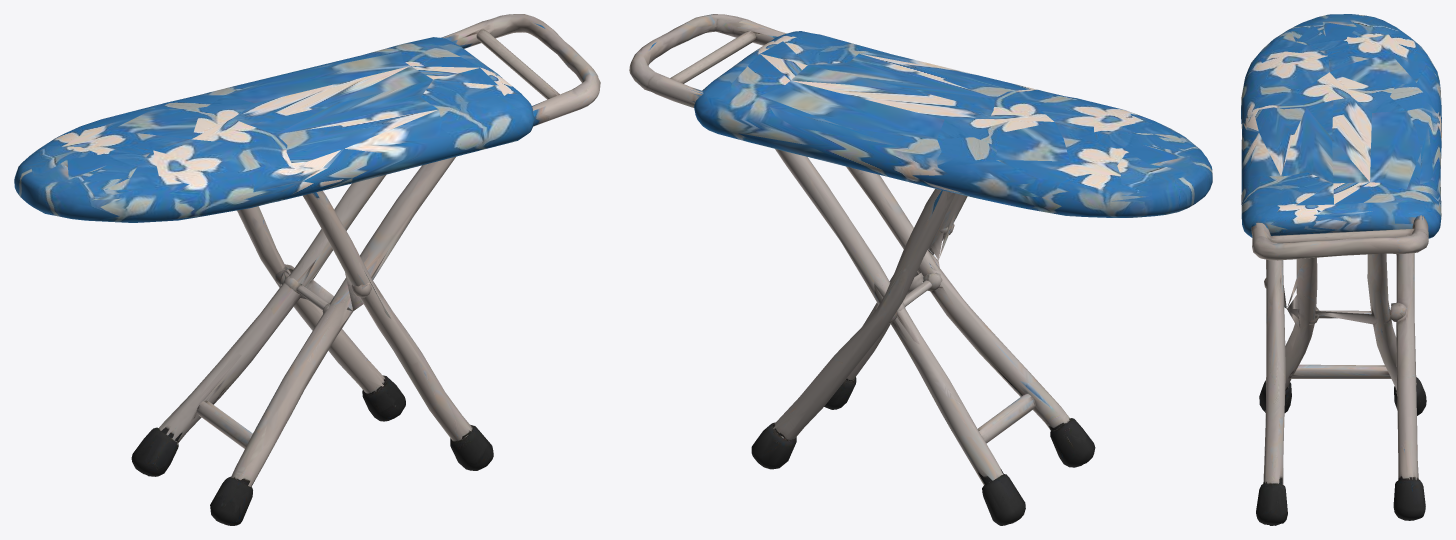
The model's file is ironing_board.glb.
3 views of the same model, side by side, from view 1: azimuth 30°, elevation 25°; view 2: azimuth 150°, elevation 25°; view 3: azimuth 270°, elevation 25° (orthographic). The views are drawn at different scales.
Visible parts, largest first — view 1: Mesh0; view 2: Mesh0; view 3: Mesh0.
Boxes of the visible parts, bbox=[...] form: Mesh0: bbox=[14, 14, 600, 525]; Mesh0: bbox=[629, 14, 1212, 525]; Mesh0: bbox=[1241, 14, 1441, 525].
Size of the model in its own units: 1 by 0.6668 by 0.3516.
1 material, 1 textured.
